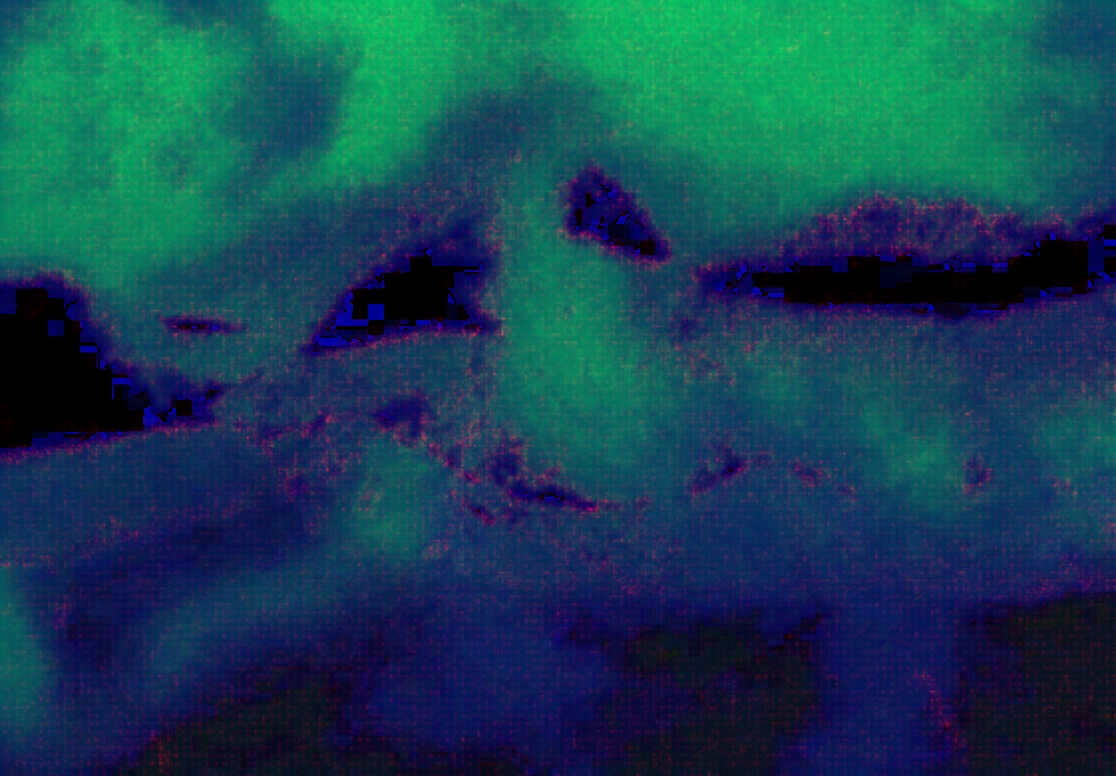rip_current: (457, 142, 696, 517)
